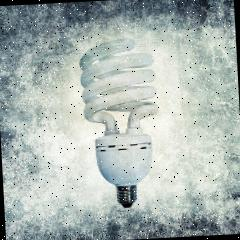lightbulb: (77, 36, 163, 210), (94, 128, 156, 210)
